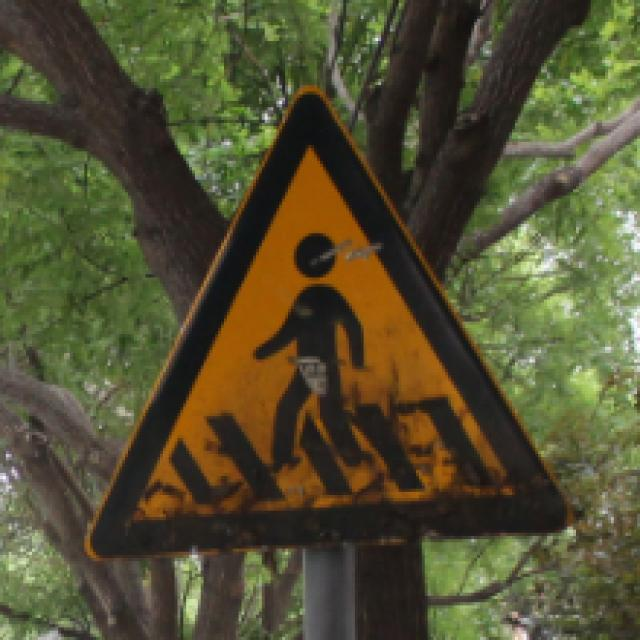Crossing: (88, 85, 580, 538)
